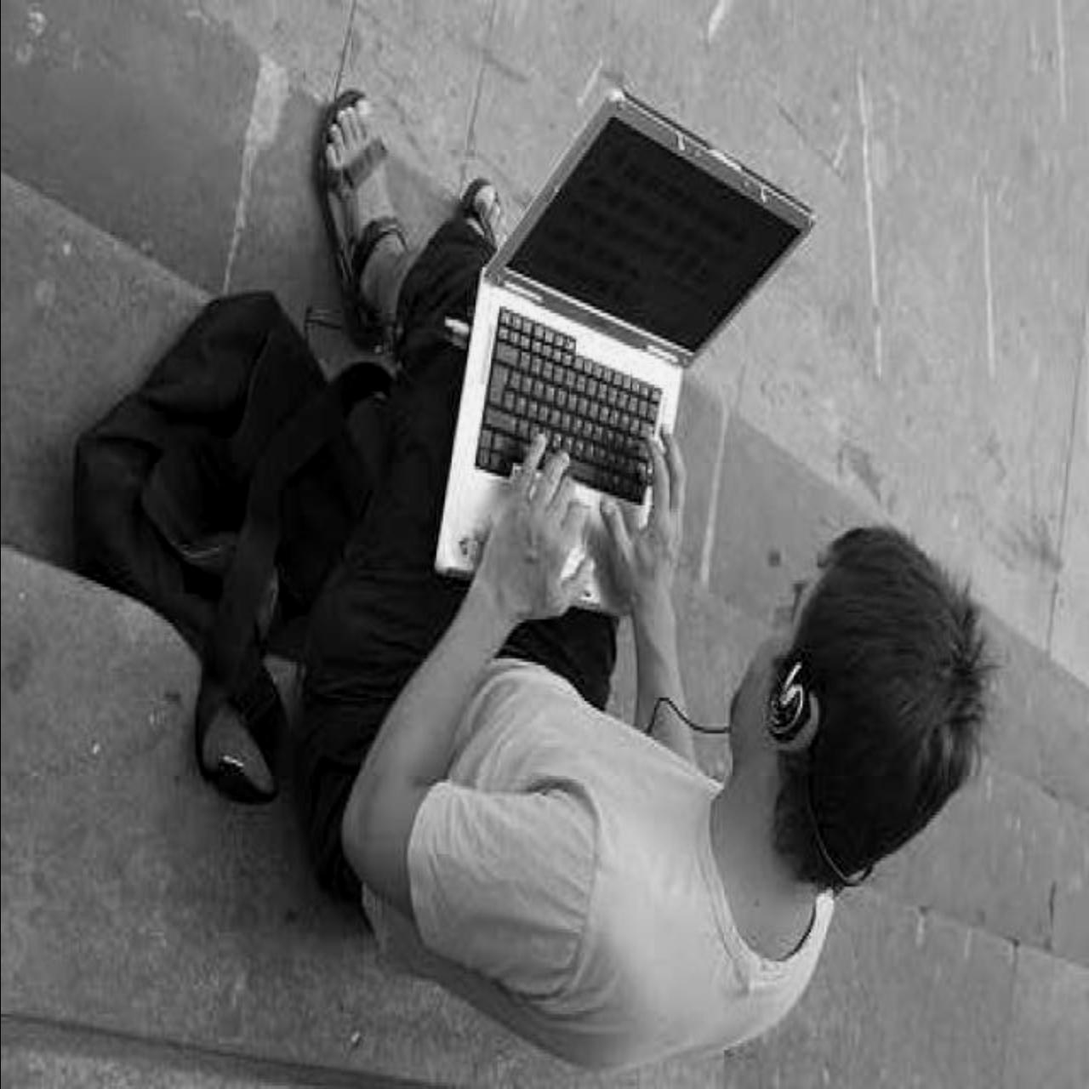laptop: (444, 61, 764, 592)
